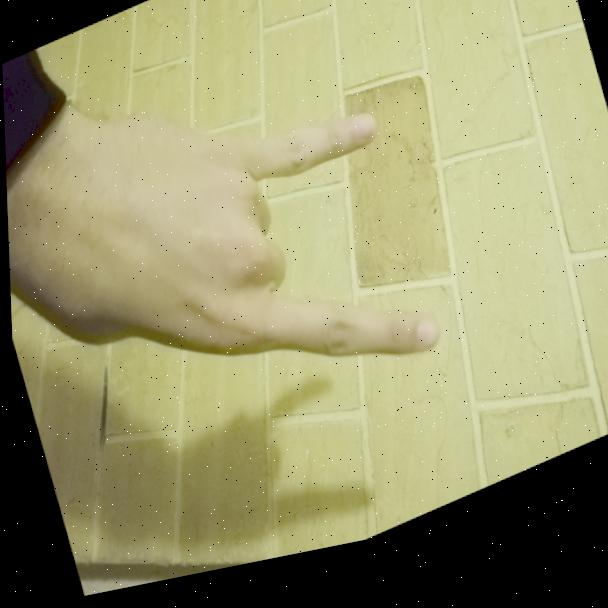five: (30, 24, 451, 508)
